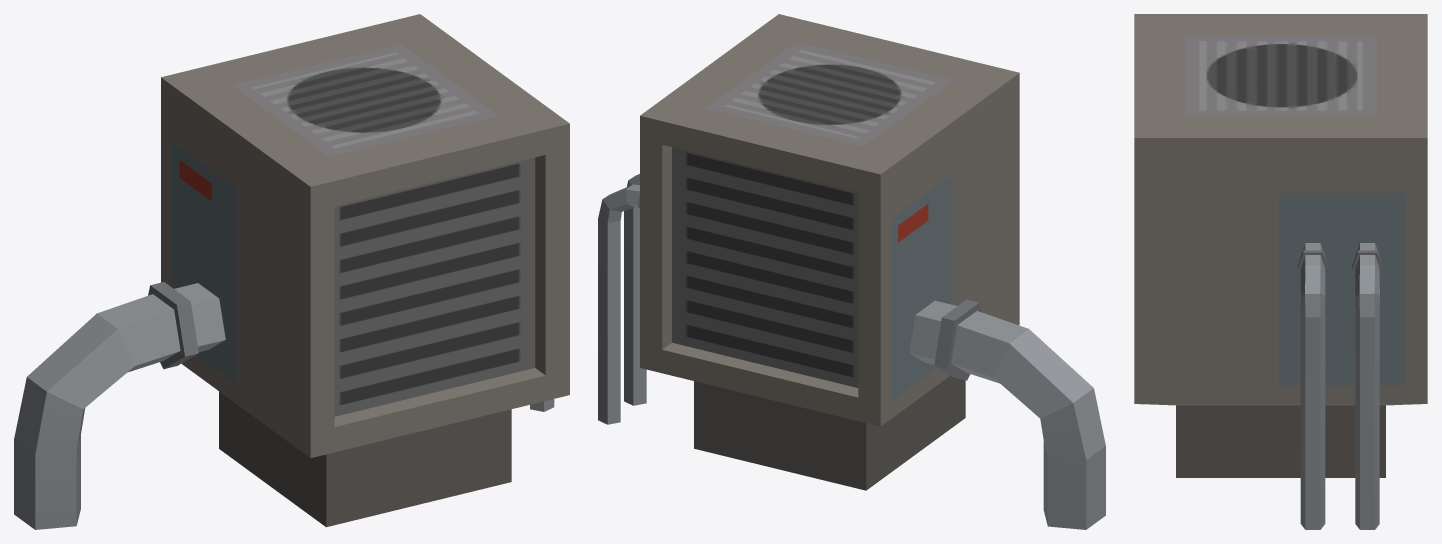
Rendered from SM_Prop_Roof_Aircon_02.obj.
3 renders of one model, left to right at view 1: azimuth 30°, elevation 25°; view 2: azimuth 150°, elevation 25°; view 3: azimuth 270°, elevation 25°, orthographic. The views are drawn at different scales.
Visible parts, largest first — view 1: SM_Prop_Roof_Aircon_02_0; view 2: SM_Prop_Roof_Aircon_02_0; view 3: SM_Prop_Roof_Aircon_02_0.
Part boxes in pixels (x1=…): SM_Prop_Roof_Aircon_02_0: x1=14, y1=14, x2=569, y2=529; SM_Prop_Roof_Aircon_02_0: x1=598, y1=14, x2=1105, y2=529; SM_Prop_Roof_Aircon_02_0: x1=1134, y1=14, x2=1427, y2=529.
Bounding box in the file's own units: 1.59 × 1.07 × 0.7982.
Materials: 1 (1 with a texture image).
